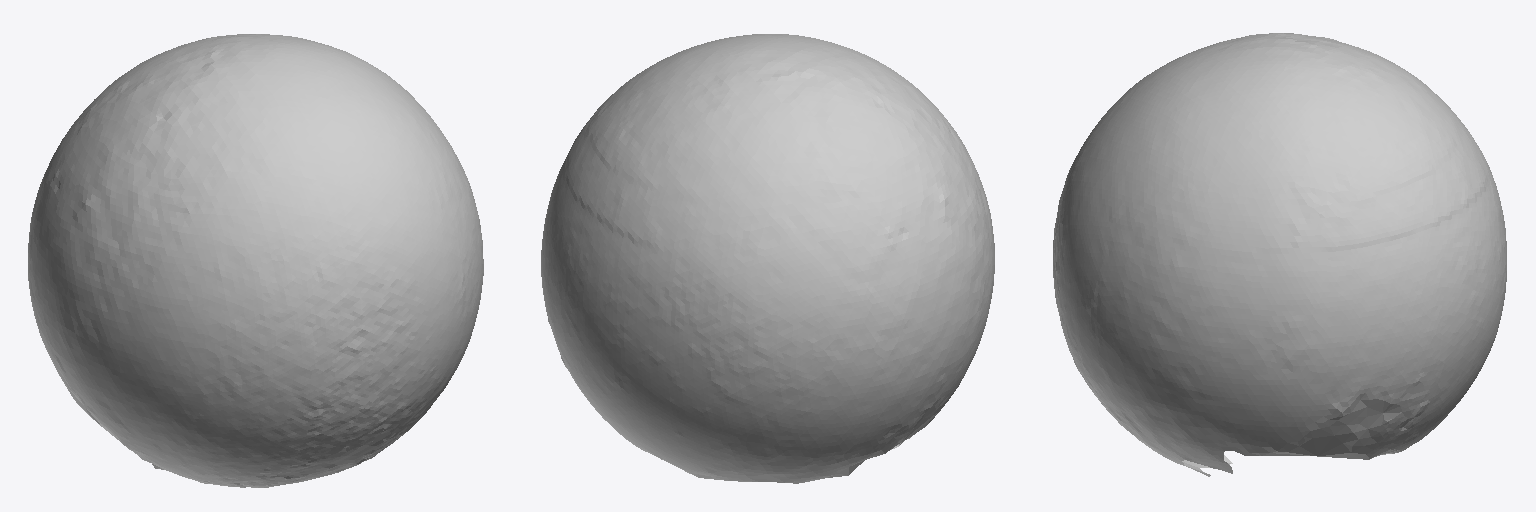
Rendered from Gridtest_1_1_0.000001.obj.
The picture shows the model from 3 angles: view 1: azimuth 30°, elevation 25°; view 2: azimuth 150°, elevation 25°; view 3: azimuth 270°, elevation 25°; orthographic projection.
Bounding box in the file's own units: 298 × 291 × 298.